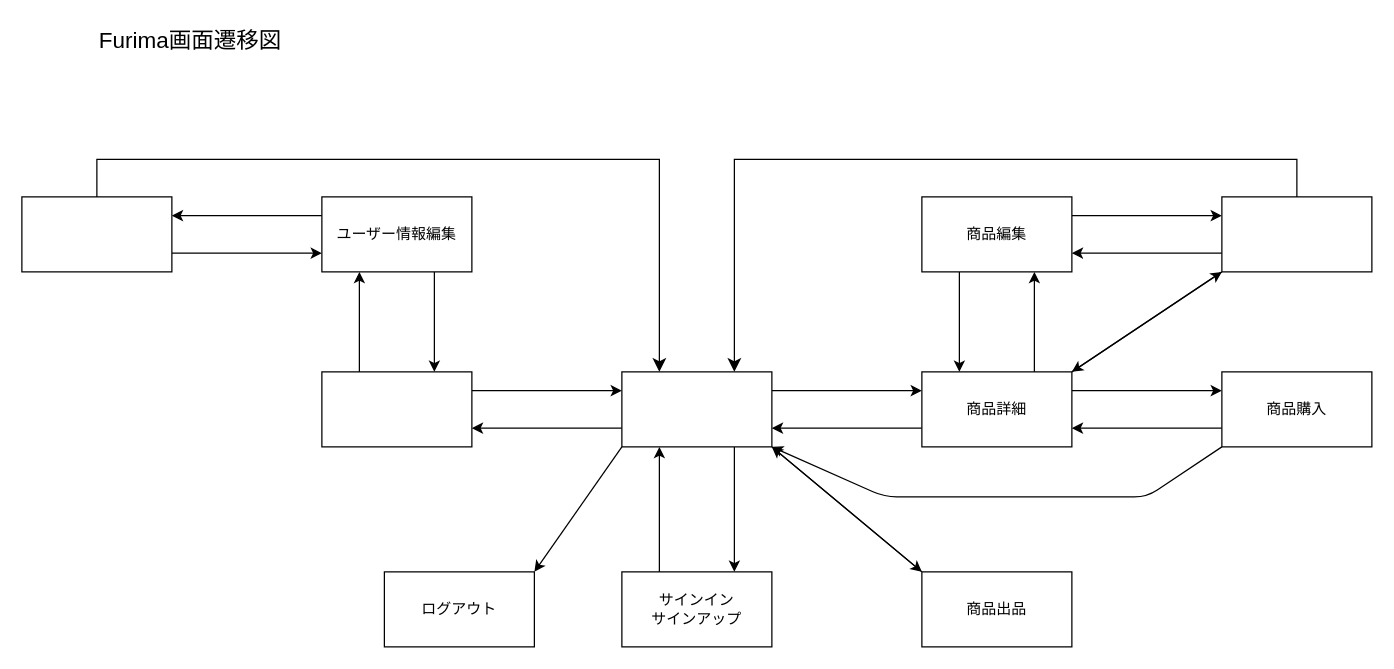
This 1394x669 diagram has some shape labels left out. Here are the shapes that lost their labels. From the top down, the centre of each, then its label:
(96,234): ユーザー情報削除
(1296,234): 商品削除
(396,409): ユーザー詳細情報
(696,409): トップページ 商品一覧画面
